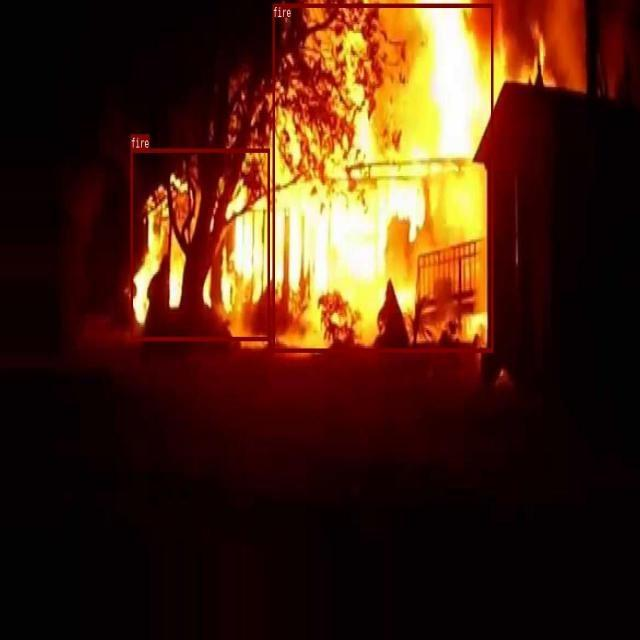fire: (272, 3, 493, 351), (130, 148, 269, 340)
